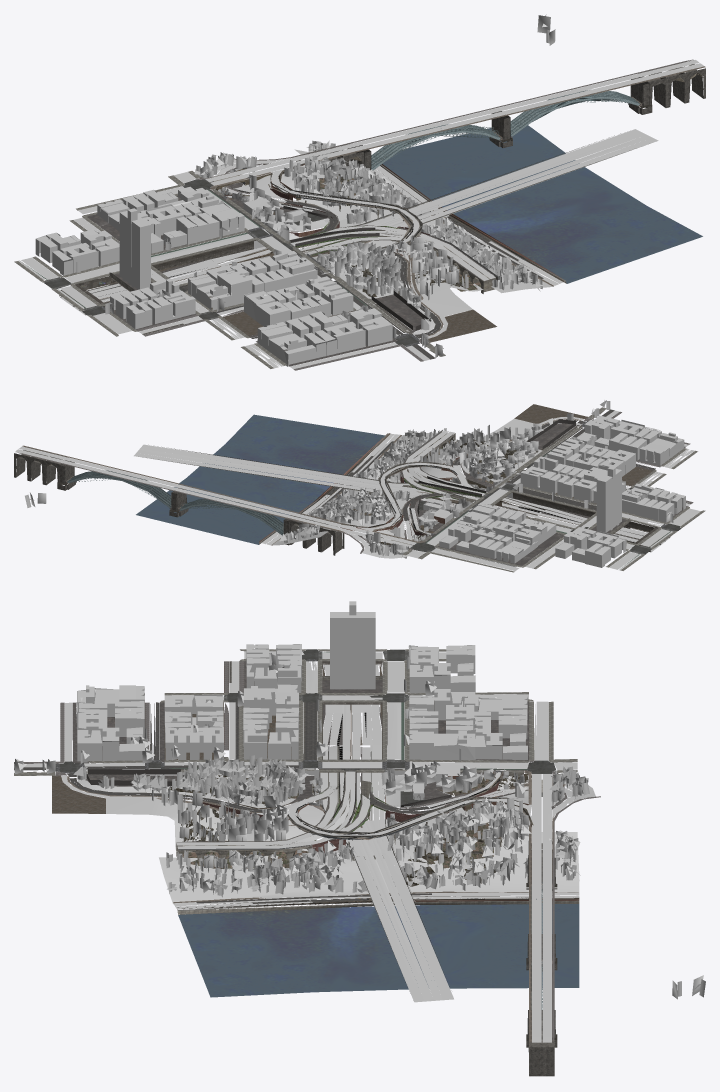
File: Highway_Interchange_shadow.obj
3 renders of one model, top to bottom at view 1: azimuth 30°, elevation 25°; view 2: azimuth 150°, elevation 25°; view 3: azimuth 270°, elevation 25°, orthographic. The views are drawn at different scales.
Visible parts, largest first — view 1: Object_96; view 2: Object_96; view 3: Object_96.
Part boxes in pixels (bbox=[...]): Object_96: bbox=[14, 14, 705, 370]; Object_96: bbox=[14, 400, 705, 572]; Object_96: bbox=[14, 601, 705, 1076].
Bounding box in the file's own units: 370 × 52.13 × 275.
